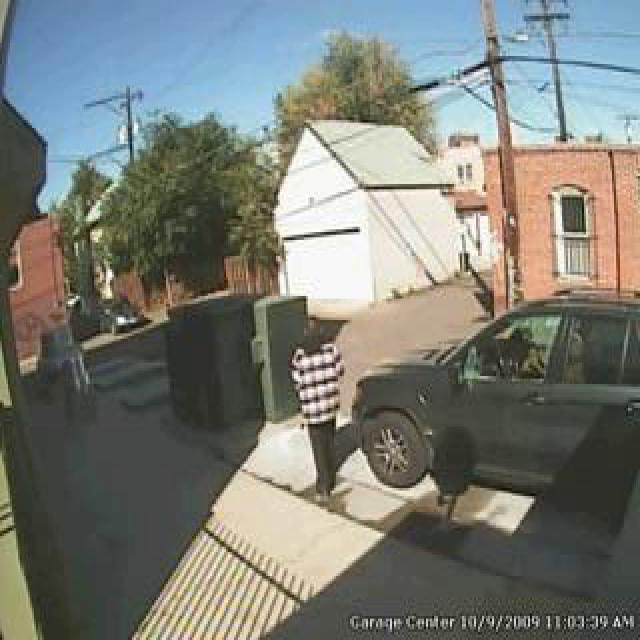stealing: (211, 210, 587, 534)
